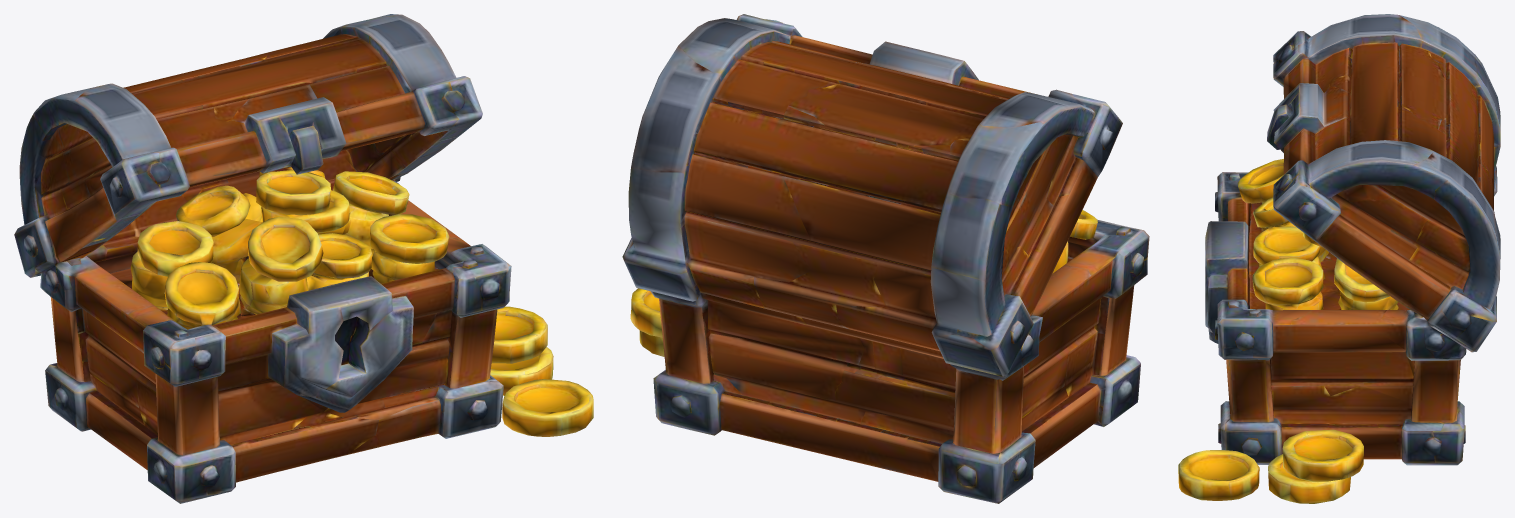
File: chest.glb
3 views of the same model, side by side, from view 1: azimuth 30°, elevation 25°; view 2: azimuth 150°, elevation 25°; view 3: azimuth 270°, elevation 25° (orthographic). The views are drawn at different scales.
Bounding box in the file's own units: 1.9 × 1.41 × 1.34.
Materials: 1 (1 with a texture image).
